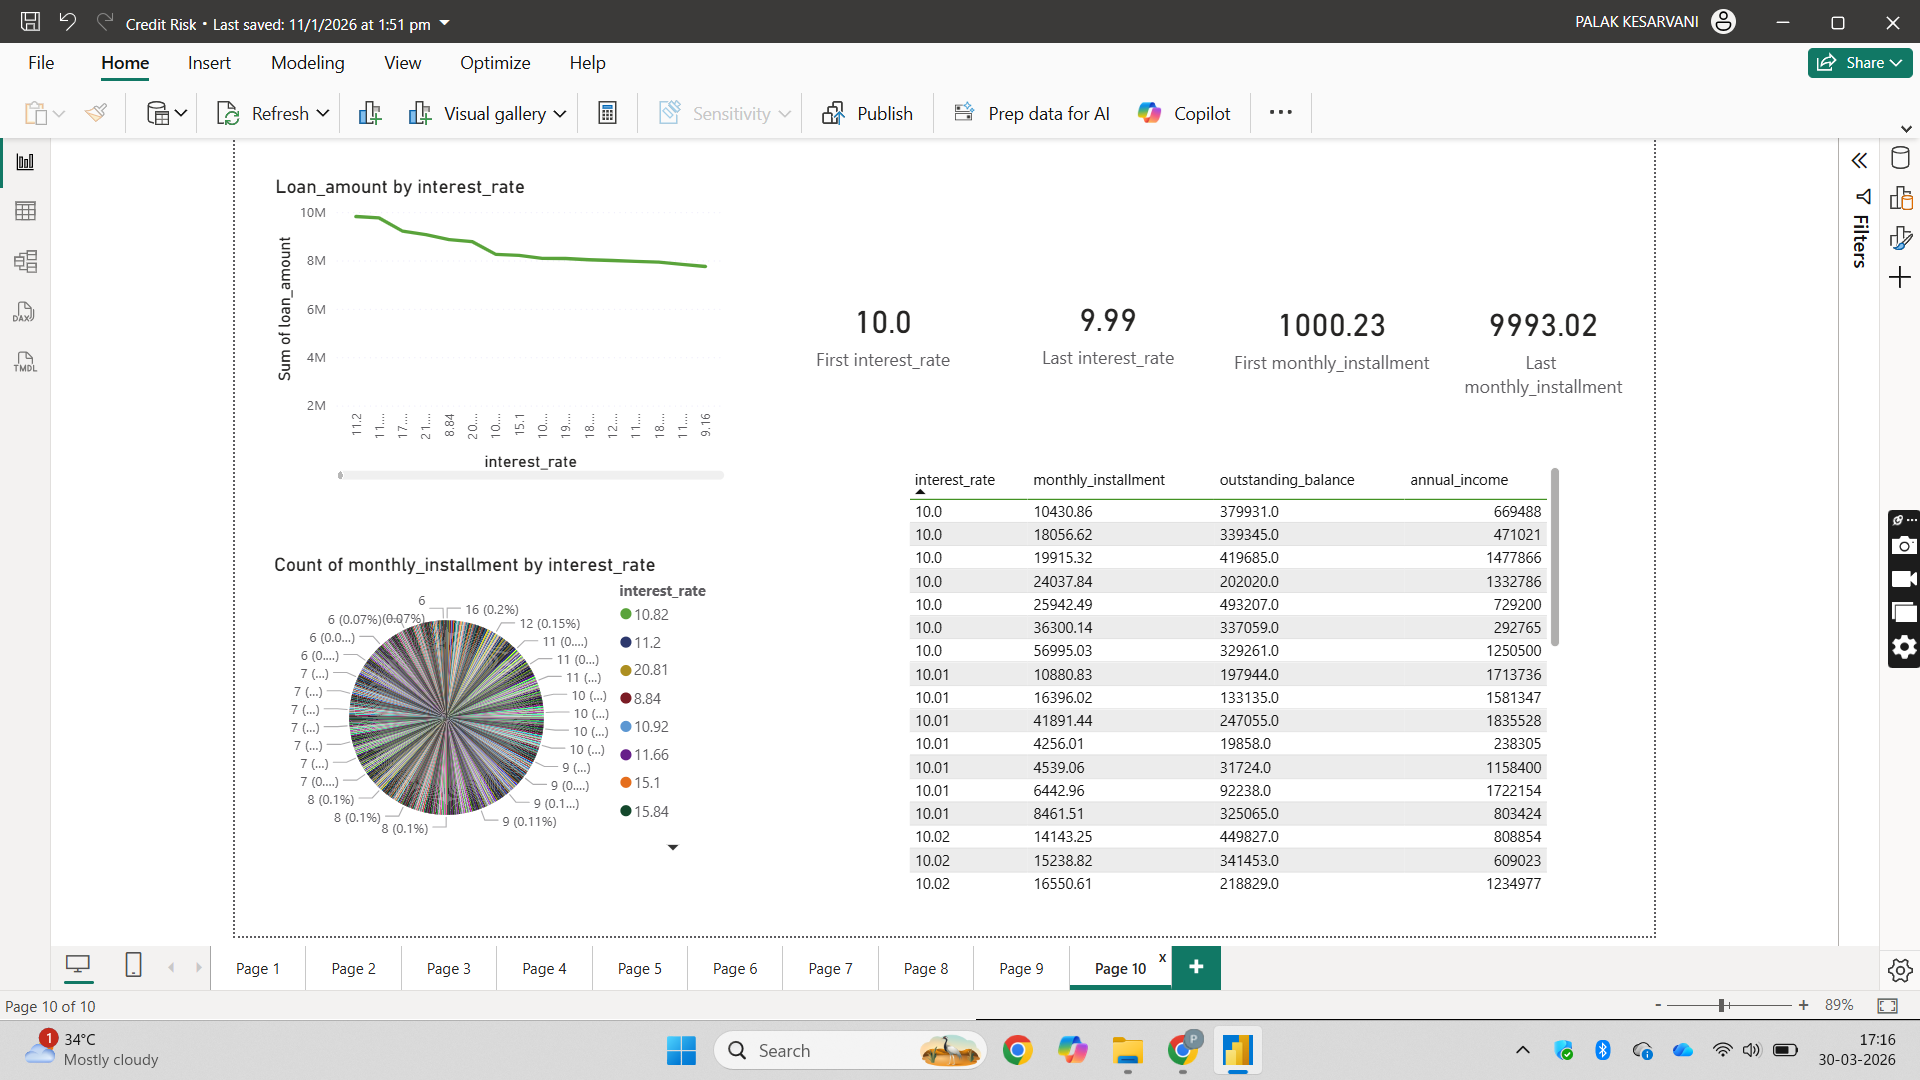

Layout of this report page (visuals, bound fields, positions):
{"tool":"powerbi","page":{"name":"Page 10","canvas":[1280,720],"ordinal":9},"visuals":[{"type":"lineChart","title":"Loan_amount by interest_rate","fields":{"Category":["final_fraud_cleaned.interest_rate"],"Y":["Sum(final_fraud_cleaned.loan_amount)"]},"box":[32,33.8,414.7,279.4],"z":0},{"type":"pieChart","fields":{"Category":["final_fraud_cleaned.interest_rate"],"Y":["CountNonNull(final_fraud_cleaned.monthly_installment)"]},"box":[30,374,416,278],"z":1},{"type":"card","fields":{"Values":["Min(final_fraud_cleaned.interest_rate)"]},"box":[484,36,202,278],"z":2},{"type":"card","fields":{"Values":["Max(final_fraud_cleaned.interest_rate)"]},"box":[686,34,202,278],"z":3},{"type":"card","fields":{"Values":["Min(final_fraud_cleaned.monthly_installment)"]},"box":[888,38,202,278],"z":4},{"type":"card","fields":{"Values":["Max(final_fraud_cleaned.monthly_installment)"]},"box":[1090,38,180,278],"z":5},{"type":"tableEx","fields":{"Values":["final_fraud_cleaned.interest_rate","final_fraud_cleaned.monthly_installment","final_fraud_cleaned.outstanding_balance","final_fraud_cleaned.annual_income"]},"box":[602,292,598,394],"z":6}]}

Visuals, with their boxes on the page's 1280x720 design canvas (x1, y1, x2, y2). These are canvas units, not pixel positions in the 1920x1080 screenshot, which may show the page scaled, cropped or inside an application window:
"Loan_amount by interest_rate" lineChart: select_region(32, 34, 447, 313)
pieChart - final_fraud_cleaned.interest_rate x CountNonNull(final_fraud_cleaned.monthly_installment): select_region(30, 374, 446, 652)
card - Min(final_fraud_cleaned.interest_rate): select_region(484, 36, 686, 314)
card - Max(final_fraud_cleaned.interest_rate): select_region(686, 34, 888, 312)
card - Min(final_fraud_cleaned.monthly_installment): select_region(888, 38, 1090, 316)
card - Max(final_fraud_cleaned.monthly_installment): select_region(1090, 38, 1270, 316)
tableEx - final_fraud_cleaned.interest_rate x final_fraud_cleaned.monthly_installment: select_region(602, 292, 1200, 686)
